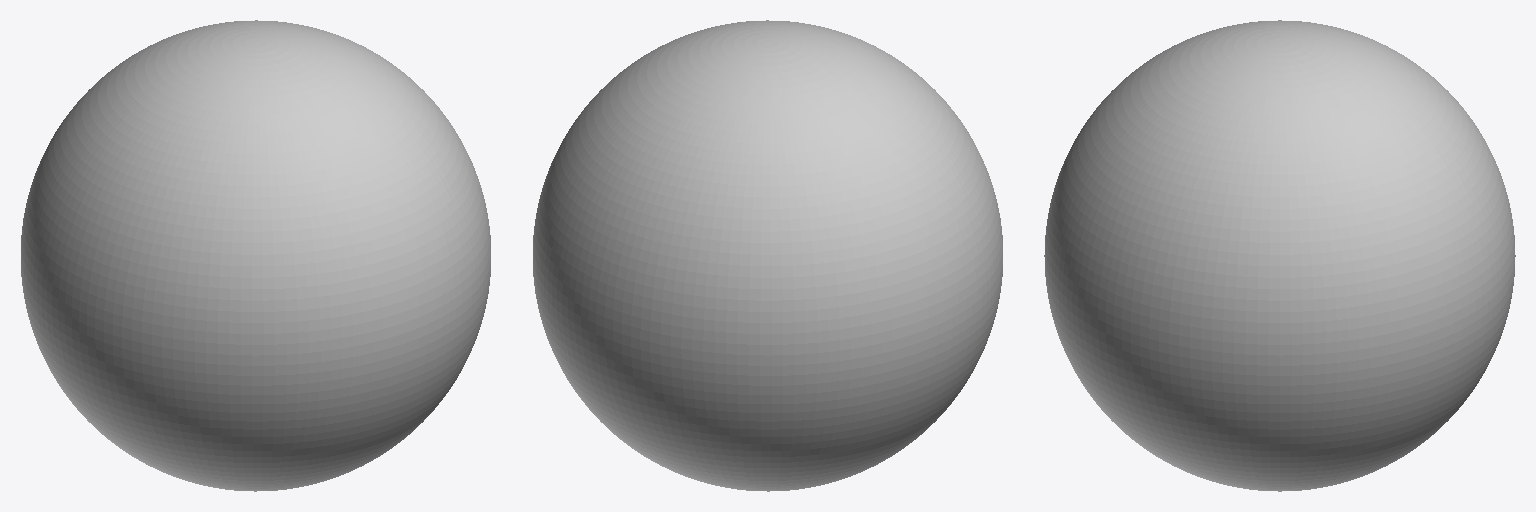
File: Neptuno.obj
3 renders of one model, left to right at view 1: azimuth 30°, elevation 25°; view 2: azimuth 150°, elevation 25°; view 3: azimuth 270°, elevation 25°, orthographic.
Parts seen in each view (by area): view 1: Esfera; view 2: Esfera; view 3: Esfera.
Boxes of the visible parts, <box> form: Esfera: <box>21,20,490,491</box>; Esfera: <box>533,20,1002,491</box>; Esfera: <box>1044,20,1515,491</box>.
Size of the model in its own units: 2 by 2 by 2.